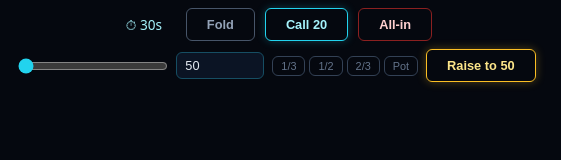
Test case: pot-fraction presets › presets clamp down to an all-in when the pot is huge
Click the button "Pot".
click(401, 66)  # box [384, 56, 418, 76]
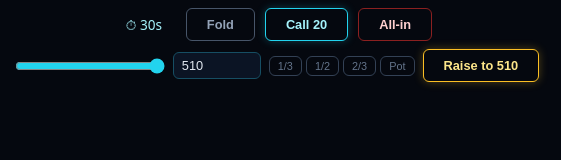
Result: the button with class "raise" reads "Raise to 510" at [422, 49, 539, 82]
